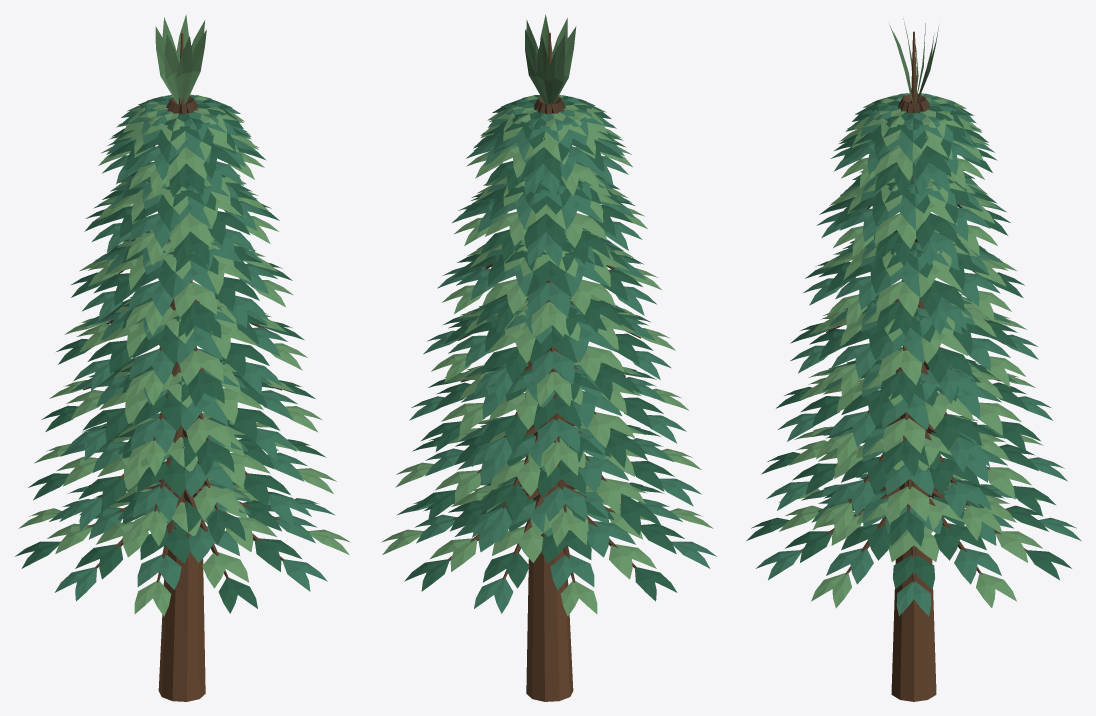
Rendered from Conifer.glb.
3 views of the same model, side by side, from view 1: azimuth 30°, elevation 25°; view 2: azimuth 150°, elevation 25°; view 3: azimuth 270°, elevation 25° (orthographic).
Visible parts, largest first — view 1: Conifer; view 2: Conifer; view 3: Conifer.
Part boxes in pixels (x1=…): Conifer: x1=15, y1=14, x2=350, y2=701; Conifer: x1=381, y1=14, x2=716, y2=701; Conifer: x1=746, y1=18, x2=1081, y2=701.
Size of the model in its own units: 3.1 by 6.8 by 3.1.
